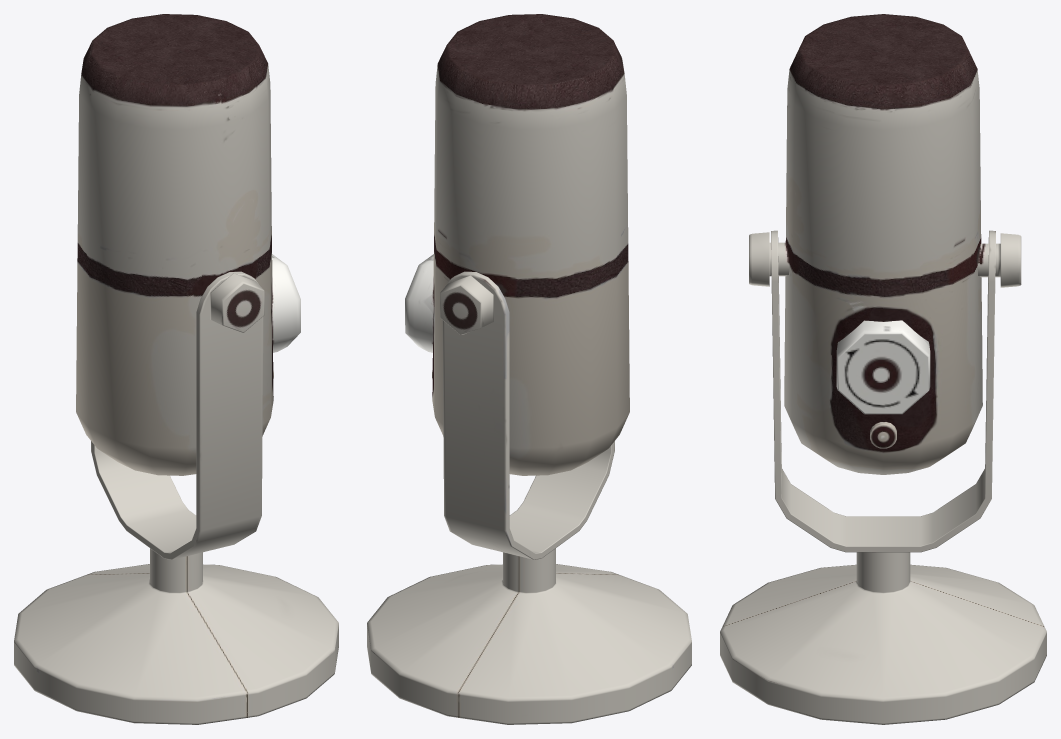
File: Microphone_low-poly.glb
3 renders of one model, left to right at view 1: azimuth 30°, elevation 25°; view 2: azimuth 150°, elevation 25°; view 3: azimuth 270°, elevation 25°, orthographic.
Visible parts, largest first — view 1: microphone_bake_0; view 2: microphone_bake_0; view 3: microphone_bake_0.
Boxes of the visible parts, x1,y1,x2,y2 form: microphone_bake_0: (14,14,338,724); microphone_bake_0: (367,14,691,724); microphone_bake_0: (720,14,1046,724).
Bounding box in the file's own units: 1.92 × 3.93 × 1.92.
1 material, 1 textured.
